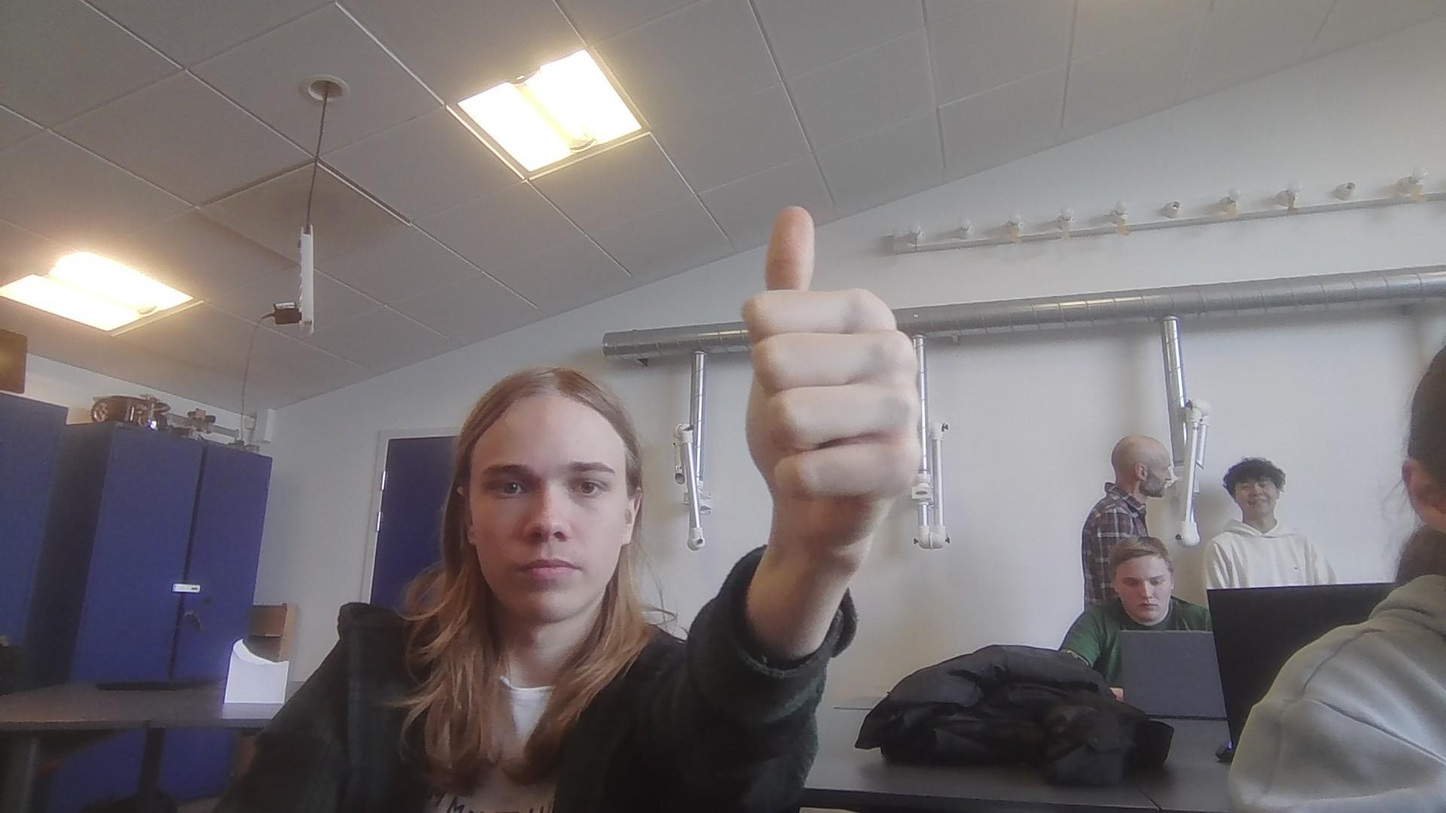thumbs up: (744, 200, 928, 533)
